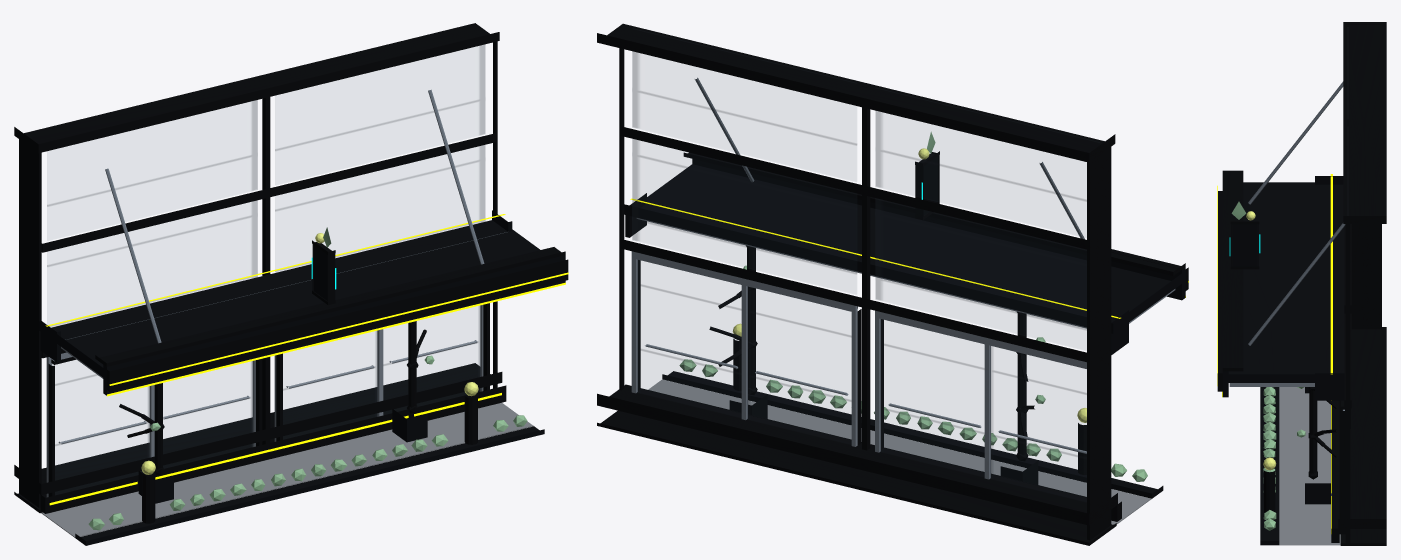
The model's file is v2_branch.glb.
The picture shows the model from 3 angles, left to right: view 1: azimuth 30°, elevation 25°; view 2: azimuth 150°, elevation 25°; view 3: azimuth 270°, elevation 25°; orthographic projection. The views are drawn at different scales.
Visible parts, largest first — view 1: Frame, Canopy, Fascia_Gunmetal, Threshold_Mat, Terrace_Kerb, Fascia_Slate, Court_Line_LED, Hedge_Edge, Door_Stiles, Branch_Trunk, Tie_Rods, Glass_Upper_00 (+9 smaller); view 2: Frame, Canopy, Door_Stiles, Threshold_Mat, Terrace_Kerb, Fascia_Gunmetal, Fascia_Slate, Branch_Trunk, Hedge_Edge, Glass_Upper_00, Glass_Upper_10, Glass_Upper_01 (+11 smaller); view 3: Frame, Canopy, Threshold_Mat, Fascia_Gunmetal, Terrace_Kerb, Tie_Rods, Hedge_Edge, Blade_Core, Branch_Trunk, Court_Line_LED, Trunk_Pedestal, Ball_Bollards (+2 smaller).
Part boxes in pixels (x1,y1,x2,y2): Frame: [14, 23, 506, 513]; Canopy: [39, 210, 539, 377]; Fascia_Gunmetal: [95, 247, 568, 391]; Threshold_Mat: [41, 402, 533, 537]; Terrace_Kerb: [75, 426, 544, 545]; Fascia_Slate: [103, 255, 565, 395]; Court_Line_LED: [45, 214, 568, 396]; Hedge_Edge: [88, 415, 527, 530]; Door_Stiles: [46, 305, 483, 497]; Branch_Trunk: [119, 321, 426, 475]; Tie_Rods: [105, 89, 484, 343]; Glass_Upper_00: [47, 200, 257, 326]; Frame: [597, 23, 1121, 545]; Canopy: [624, 164, 1182, 354]; Door_Stiles: [631, 251, 1086, 479]; Threshold_Mat: [648, 379, 1151, 524]; Terrace_Kerb: [662, 371, 1163, 498]; Fascia_Gunmetal: [683, 152, 1188, 290]; Fascia_Slate: [692, 159, 1185, 300]; Branch_Trunk: [709, 245, 1034, 461]; Hedge_Edge: [679, 359, 1147, 481]; Glass_Upper_00: [875, 198, 1086, 330]; Glass_Upper_10: [632, 139, 856, 274]; Glass_Upper_01: [875, 111, 1086, 201]; Frame: [1331, 22, 1386, 545]; Canopy: [1228, 176, 1344, 400]; Threshold_Mat: [1279, 387, 1340, 545]; Fascia_Gunmetal: [1217, 170, 1243, 391]; Terrace_Kerb: [1260, 387, 1279, 545]; Tie_Rods: [1248, 81, 1345, 345]; Hedge_Edge: [1263, 387, 1276, 530]; Blade_Core: [1232, 224, 1257, 266]; Branch_Trunk: [1308, 387, 1337, 479]; Court_Line_LED: [1217, 174, 1332, 397]; Trunk_Pedestal: [1305, 387, 1330, 504]; Ball_Bollards: [1264, 470, 1275, 512].
Size of what is drawn, in the model's own units: 8 by 6.1 by 2.84.
10 materials, 5 textured.
